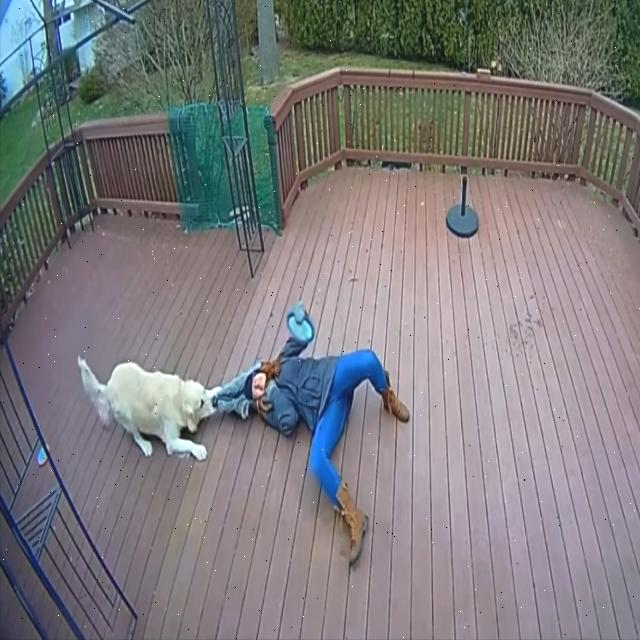fallen: (215, 335, 409, 563)
